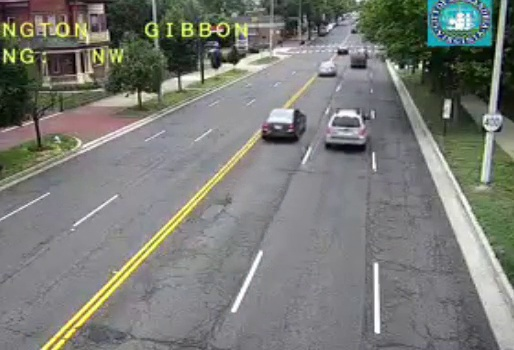car: (325, 109, 367, 146), (262, 109, 307, 139), (318, 61, 337, 76)
